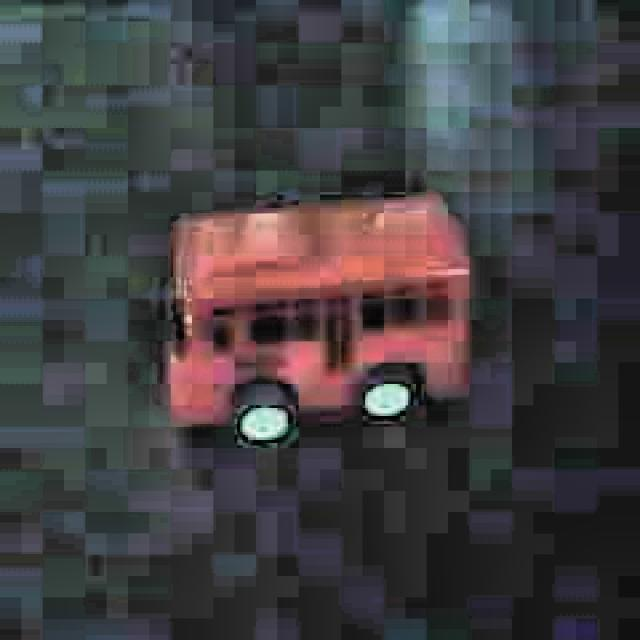bus: (156, 188, 474, 444)
